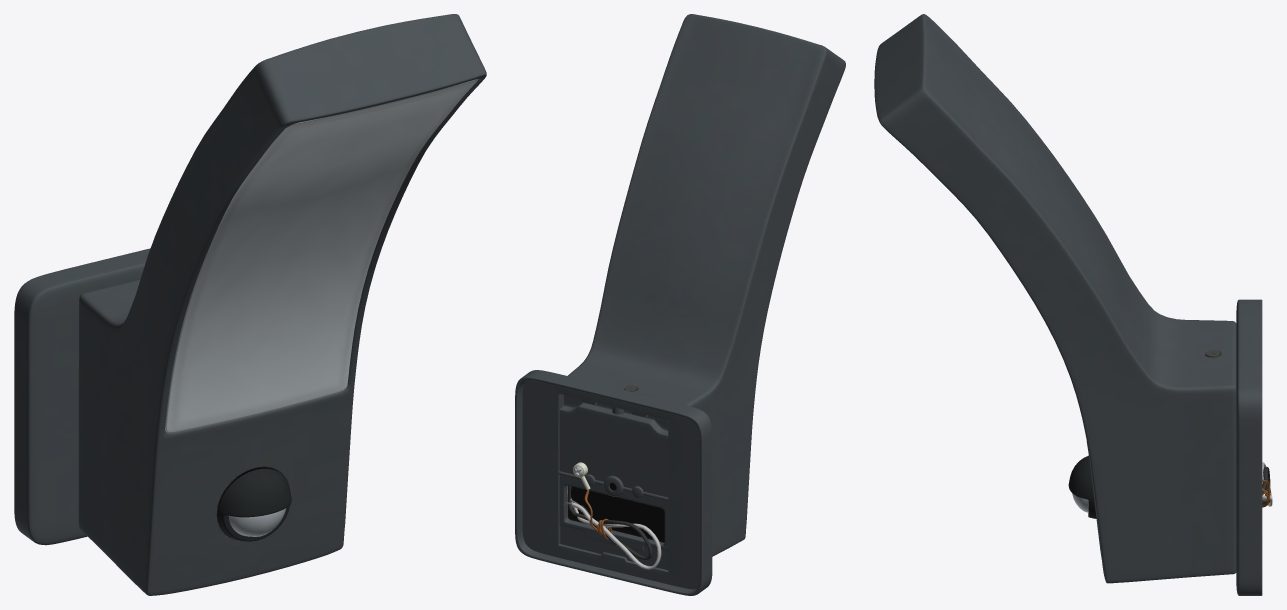
The model's file is abo-B089LBPXQF.glb.
3 renders of one model, left to right at view 1: azimuth 30°, elevation 25°; view 2: azimuth 150°, elevation 25°; view 3: azimuth 270°, elevation 25°, orthographic. The views are drawn at different scales.
Size of the model in its own units: 0.108 by 0.243 by 0.174.
1 material, 1 textured.
